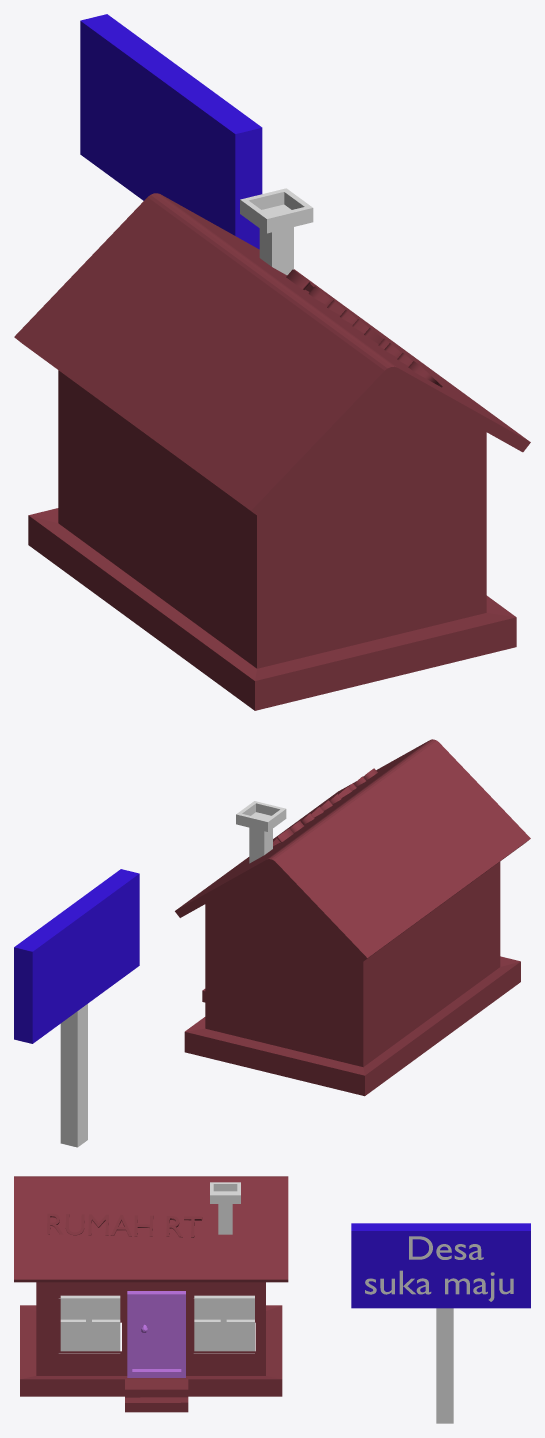
File: rumh akbr .fbx
The picture shows the model from 3 angles, top to bottom: view 1: azimuth 30°, elevation 25°; view 2: azimuth 150°, elevation 25°; view 3: azimuth 270°, elevation 25°; orthographic projection. The views are drawn at different scales.
Parts seen in each view (by area): view 1: Cube, Atap, Cube.001, Cerobong Asap, Cerobong Asap.001; view 2: Cube, Atap, Cube.001, Cube.002, Cerobong Asap; view 3: Atap, Cube, Cube.001, Pintu, Jendela.002, Jendela.004, Cube.002, Text, Cerobong Asap, Atap.001.
Part boxes in pixels (bbox=[...]): Cube: bbox=[28, 370, 516, 710]; Atap: bbox=[14, 193, 530, 516]; Cube.001: bbox=[80, 14, 262, 249]; Cerobong Asap: bbox=[240, 188, 313, 266]; Cerobong Asap.001: bbox=[272, 227, 293, 275]; Cube: bbox=[184, 862, 520, 1096]; Atap: bbox=[175, 739, 530, 962]; Cube.001: bbox=[14, 869, 139, 1043]; Cube.002: bbox=[60, 1004, 87, 1147]; Cerobong Asap: bbox=[236, 801, 286, 863]; Atap: bbox=[14, 1176, 288, 1279]; Cube: bbox=[20, 1282, 282, 1412]; Cube.001: bbox=[351, 1223, 530, 1308]; Pintu: bbox=[127, 1291, 185, 1377]; Jendela.002: bbox=[194, 1295, 254, 1353]; Jendela.004: bbox=[59, 1295, 120, 1353]; Cube.002: bbox=[436, 1308, 453, 1423]; Text: bbox=[365, 1236, 513, 1301]; Cerobong Asap: bbox=[210, 1182, 240, 1234]; Atap.001: bbox=[14, 1279, 288, 1282].
Bounding box in the file's own units: 569 × 600 × 1350.
